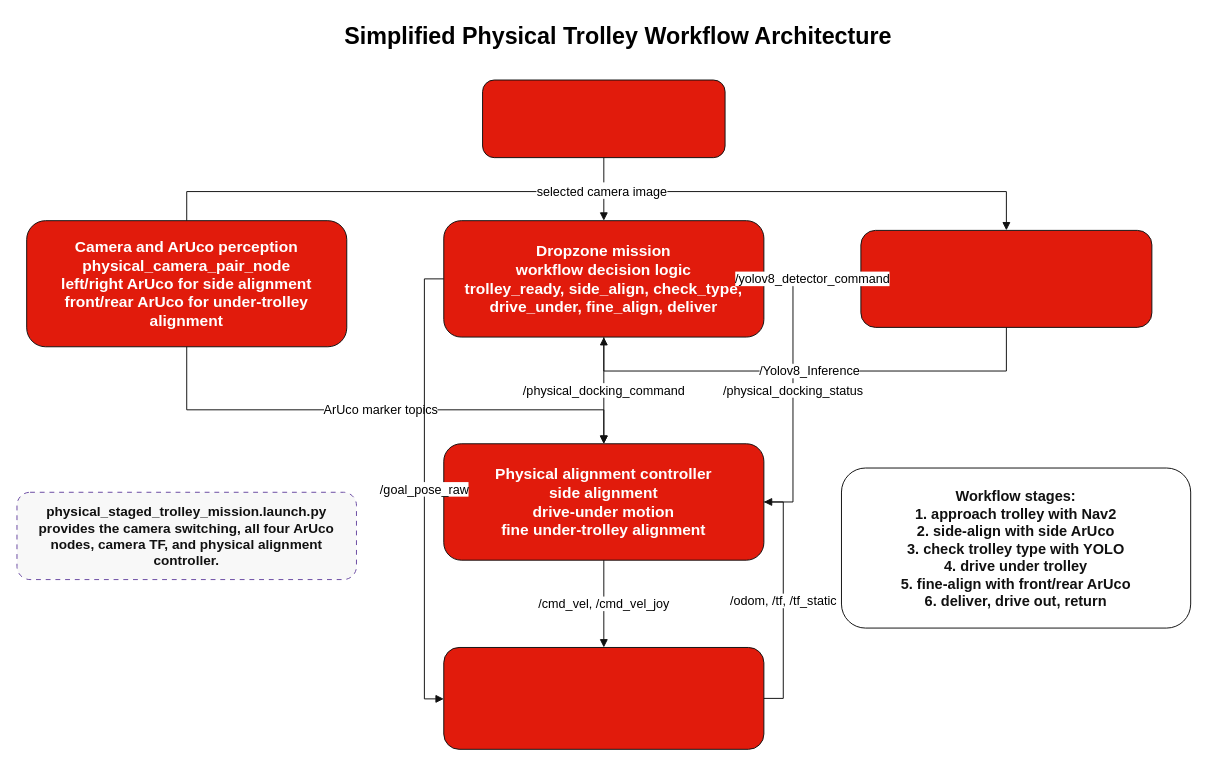
Image size: 1208x766. Some labels were removed from this diagram. The centre of each missing label's shape, as x and y in pixels:
Operator supervised stage commands: point (603, 118)
Robot base and Nav2 map navigation, odometry, TF, twist mux and motor control: point (603, 698)
YOLO trolley detector classifies trolley type empty, laundry, trash: point (1006, 278)
